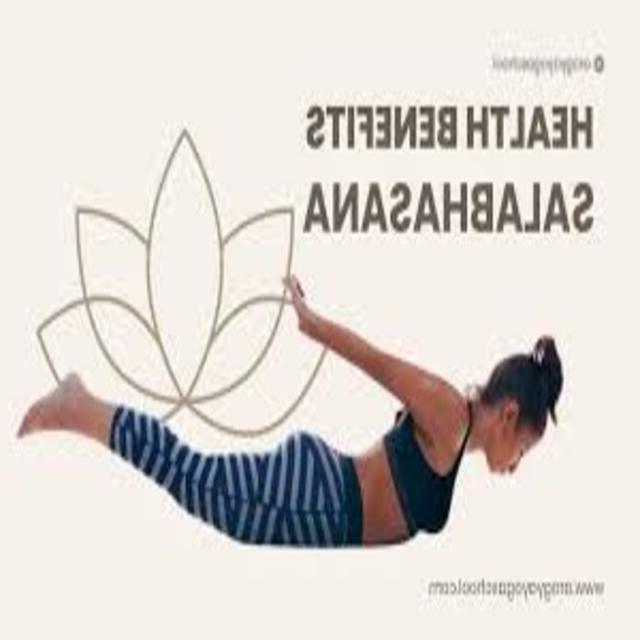Locust_Pose: (18, 274, 563, 549)
